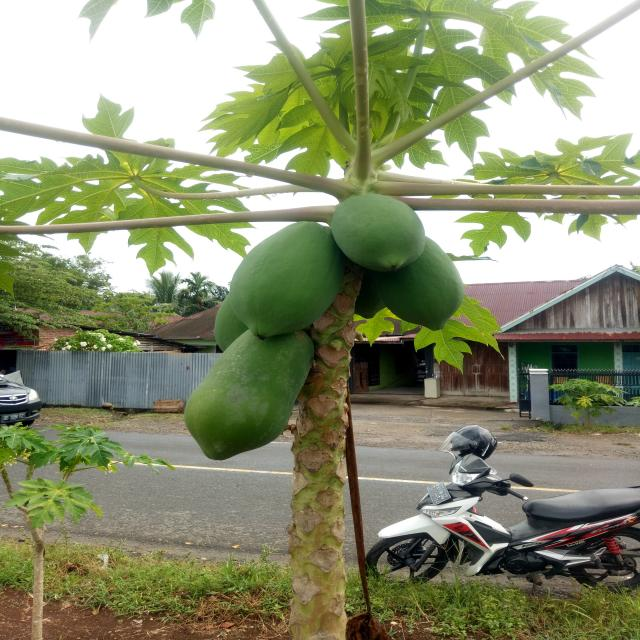Pepaya unrippen: (179, 330, 327, 462), (233, 218, 340, 340), (330, 193, 414, 270), (392, 258, 464, 334)
